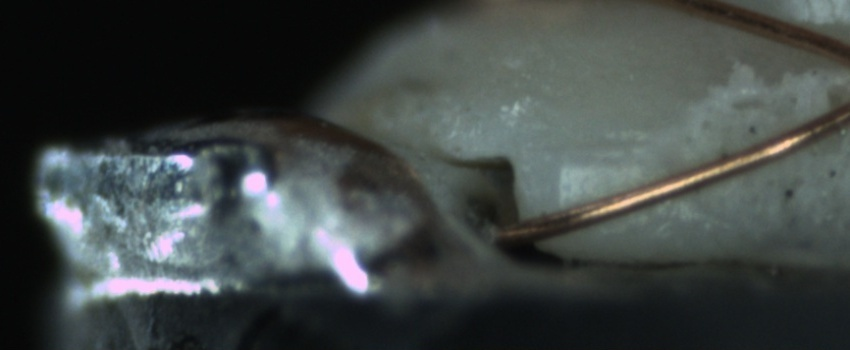DL: (548, 122, 669, 186)
